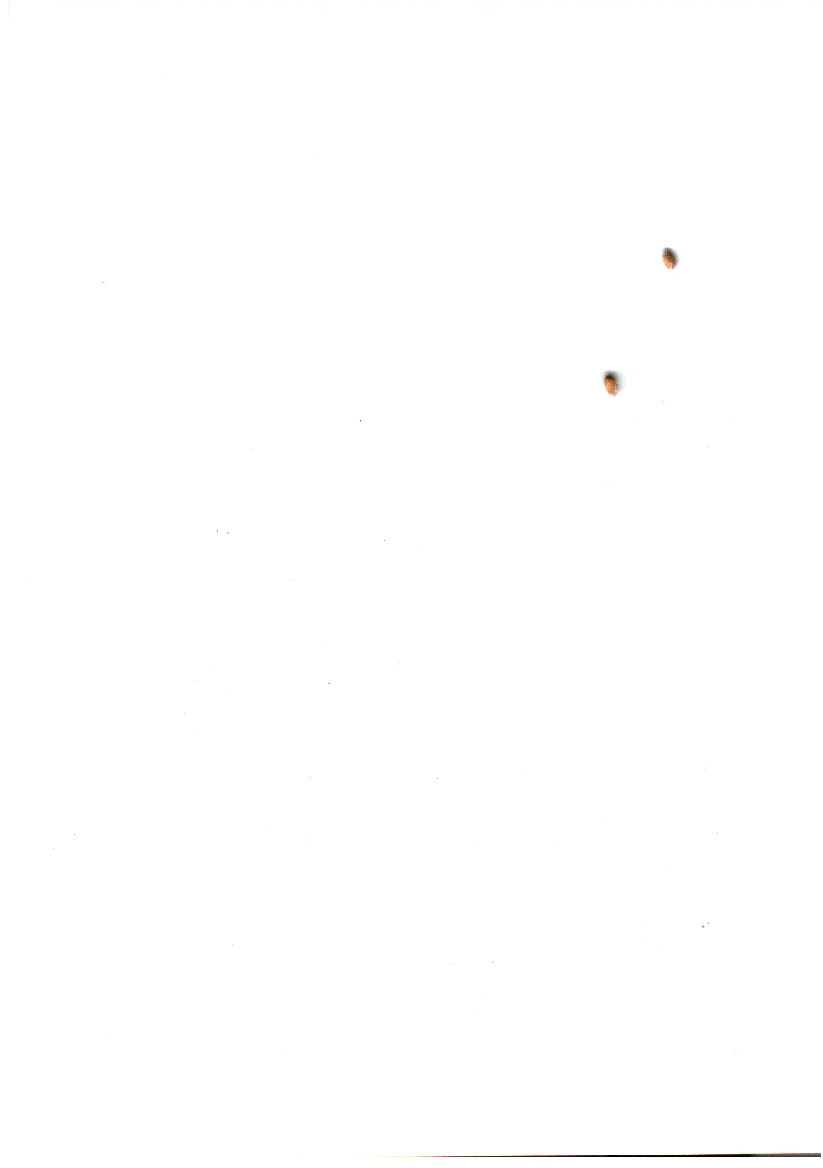grains: (650, 234, 689, 284), (598, 360, 628, 410)
